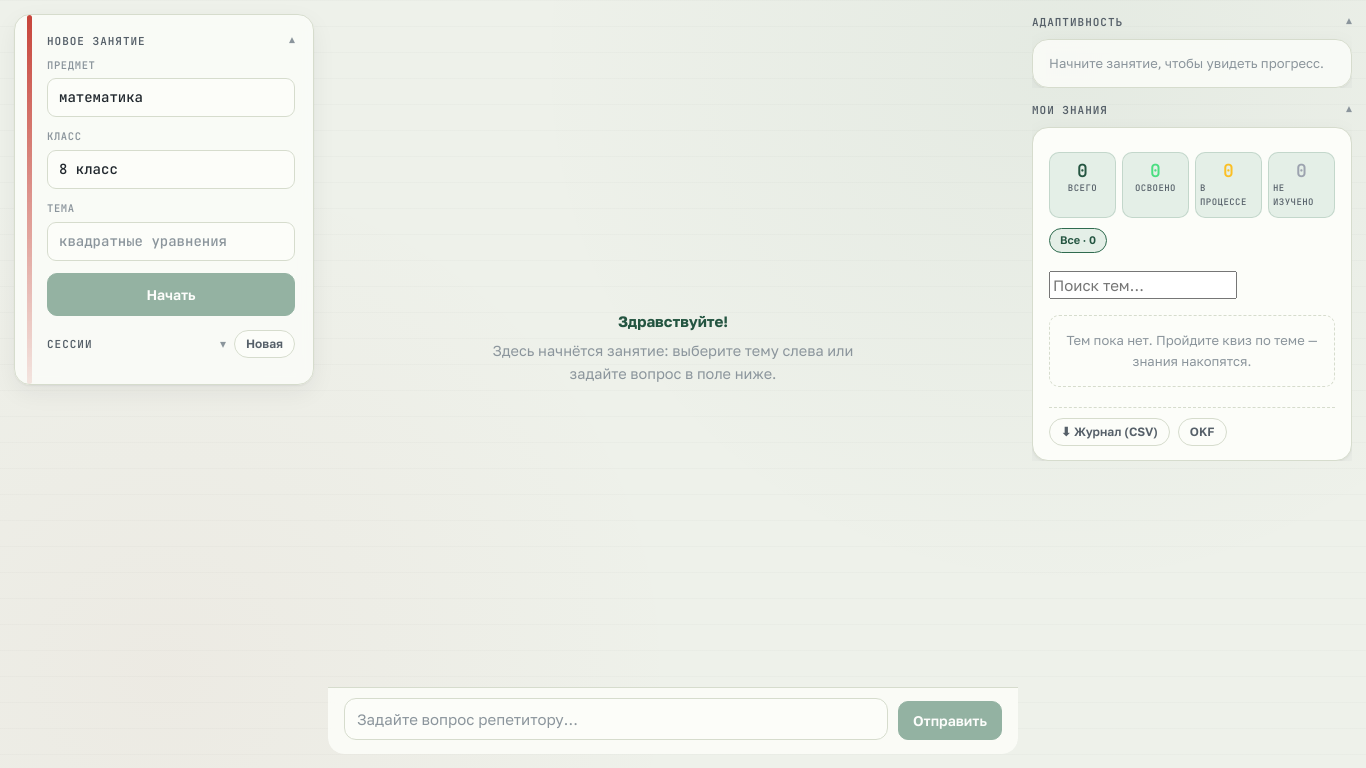
Test: <App/> › renders shell panels
Check: the field with placeholder "квадратные уравнения" is shown, box [47, 222, 295, 261]
Click the button "Сессии ▾".
click(136, 344)  # box [47, 336, 226, 352]
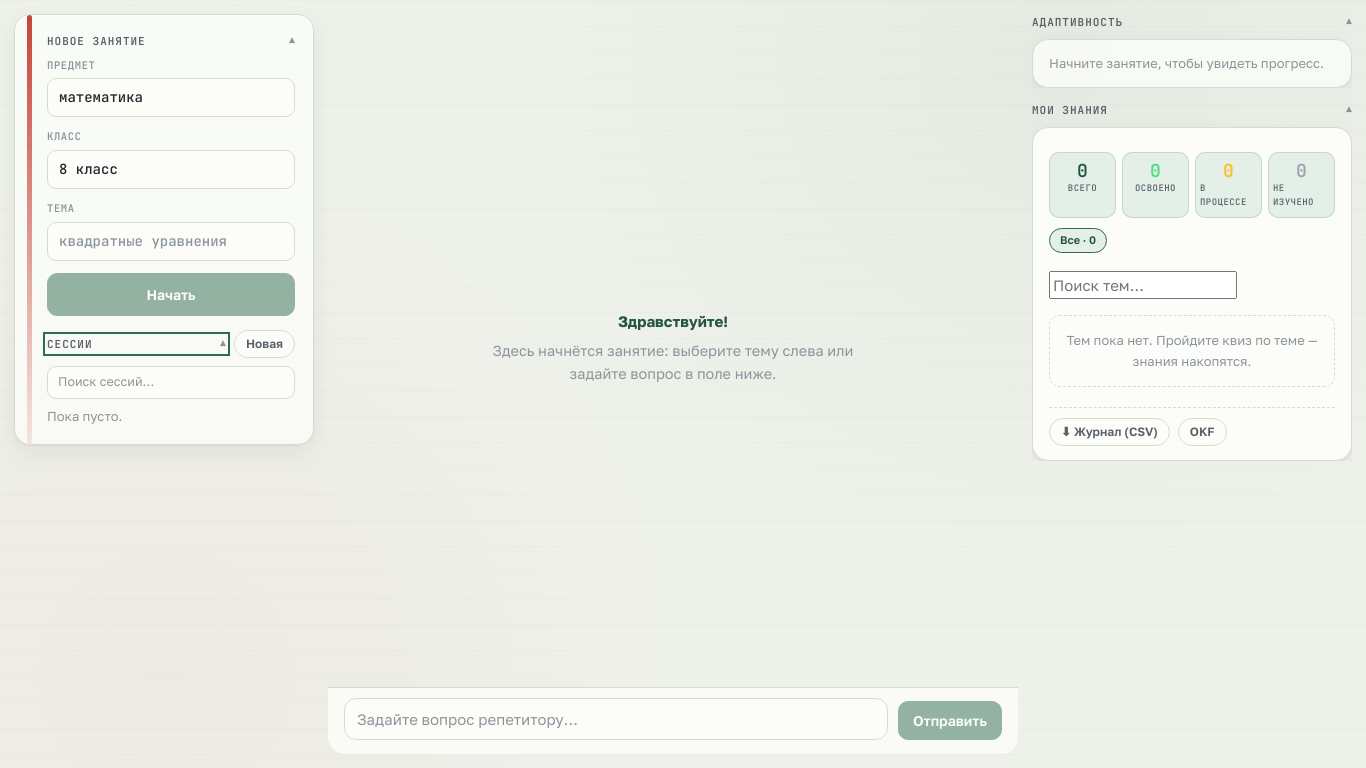
Check: the text "Пока пусто." is shown, box [47, 408, 122, 424]
